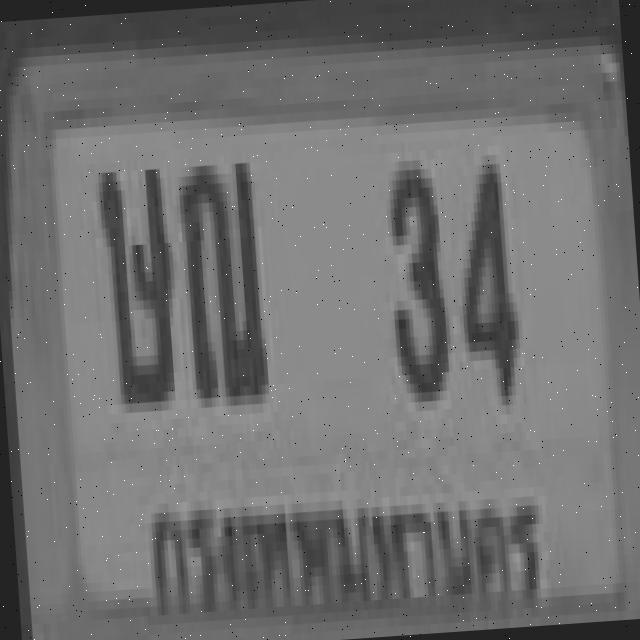28NorNen: (172, 148, 266, 394)
3: (379, 150, 446, 394)
4: (448, 154, 520, 398)
48SorRueSi: (93, 155, 178, 400)
Bangkok: (130, 454, 552, 640)
